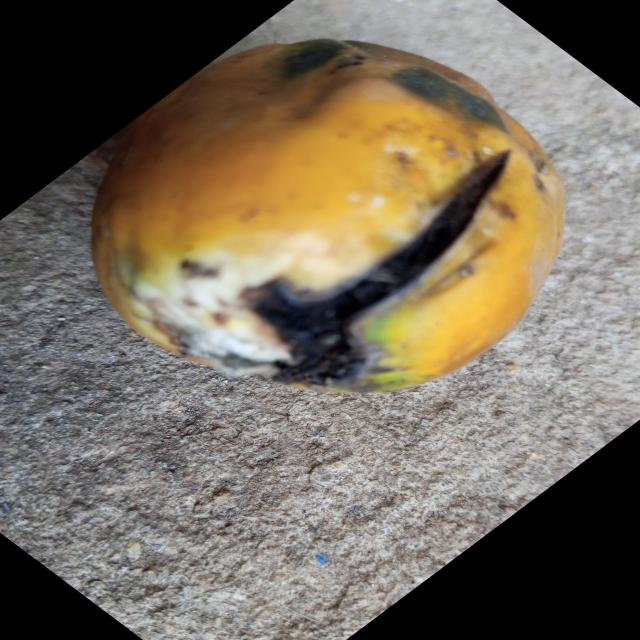damaged: (93, 39, 565, 392)
